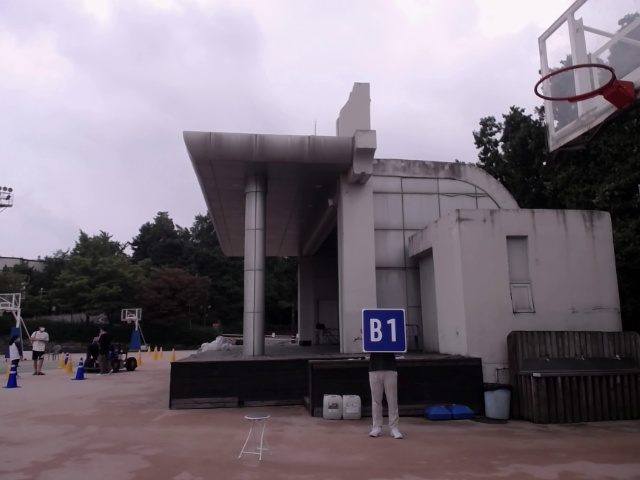delivery_b1: (362, 308, 407, 352)
